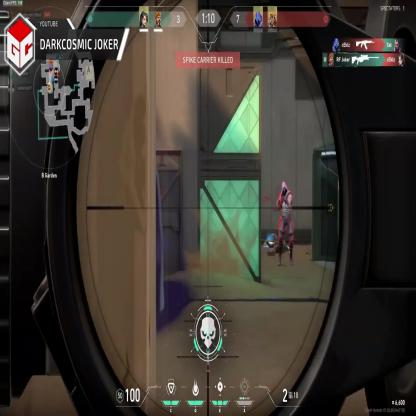enemy: (272, 182, 295, 266)
enemy_head: (281, 181, 287, 194)
